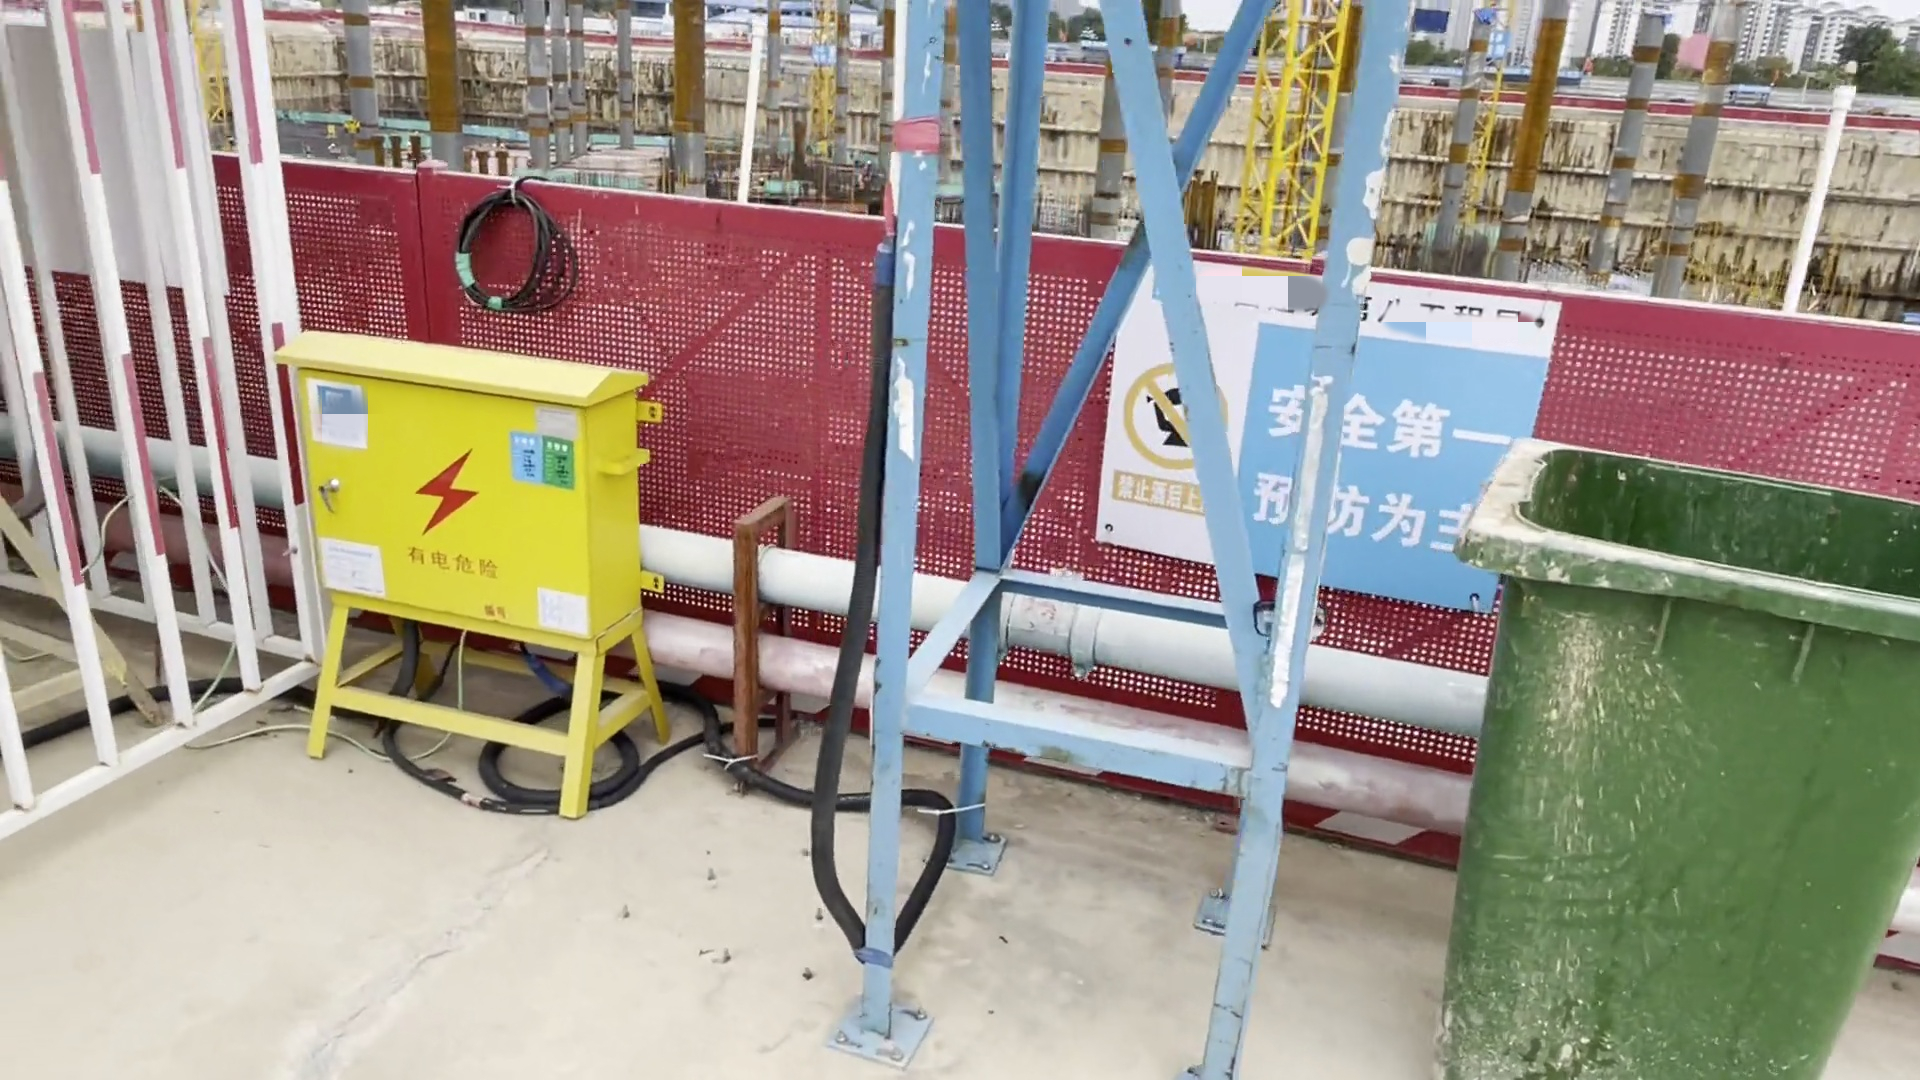ebox: (258, 309, 709, 808)
